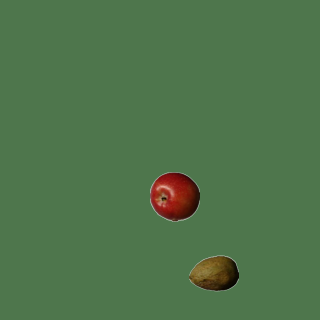Apple Braeburn: (149, 171, 199, 221)
Papaya: (188, 248, 238, 298)
